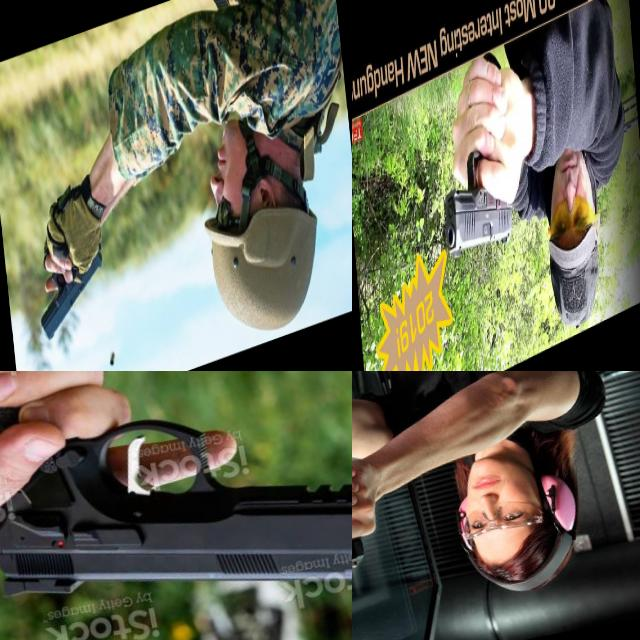handgun: (0, 371, 352, 640), (432, 42, 516, 276), (32, 233, 111, 346), (352, 450, 414, 591)
